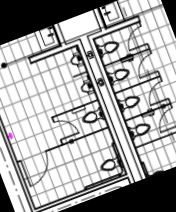door: (18, 149, 58, 189), (49, 113, 82, 143), (130, 51, 162, 81), (140, 79, 172, 109), (121, 23, 151, 53), (152, 105, 176, 136)
